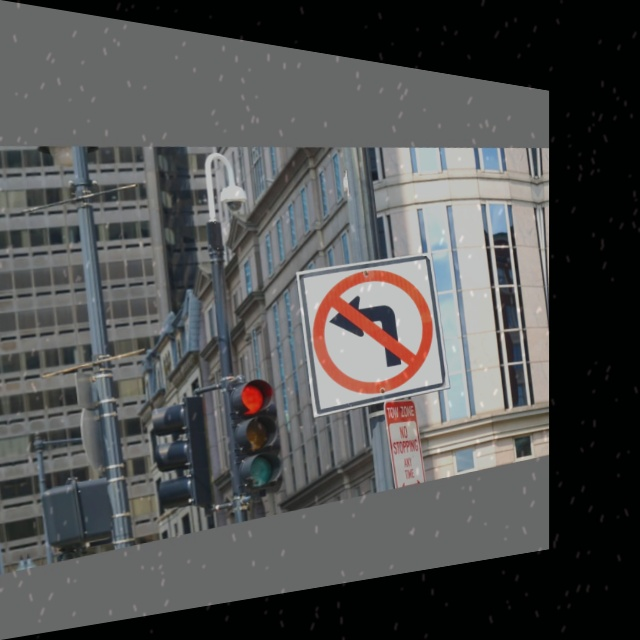Left_Turn_Prohibited: (297, 255, 449, 409)
